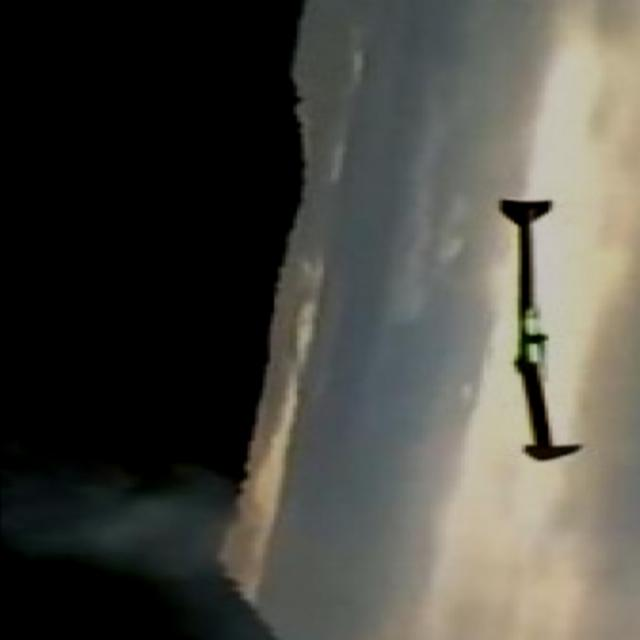plane: (498, 196, 585, 462)
